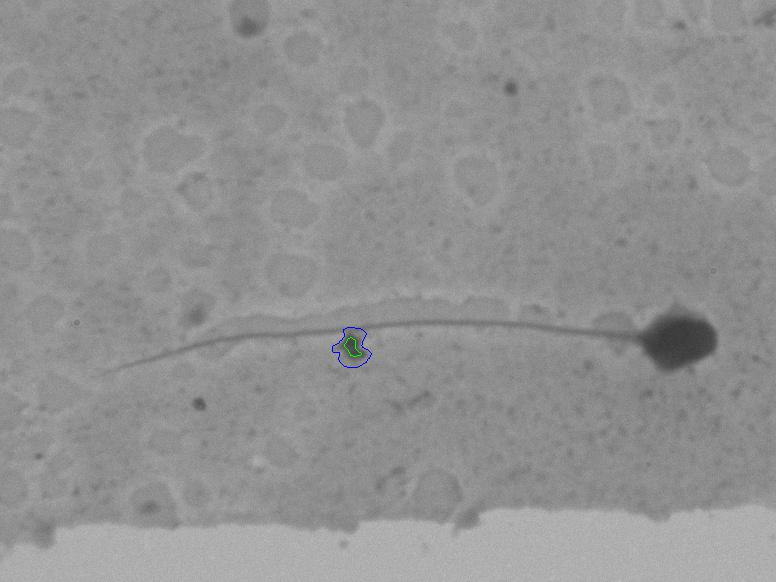Abnormal: (93, 244, 742, 438)
